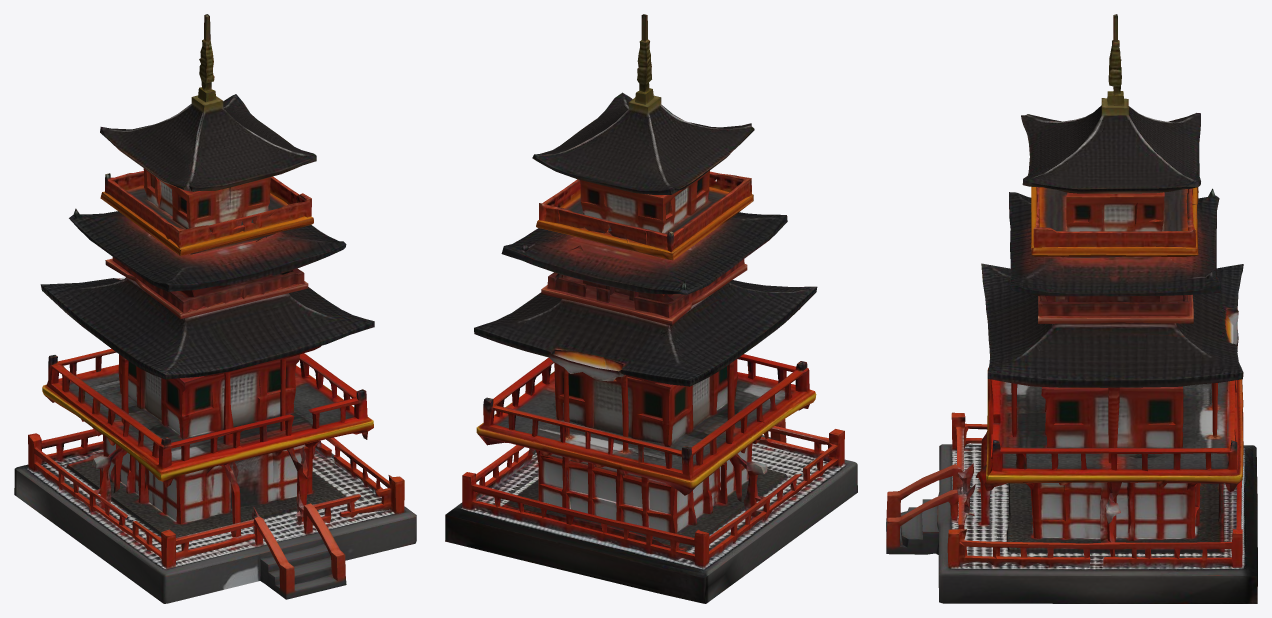
Rendered from pagoda.glb.
3 views of the same model, side by side, from view 1: azimuth 30°, elevation 25°; view 2: azimuth 150°, elevation 25°; view 3: azimuth 270°, elevation 25° (orthographic). The views are drawn at different scales.
Parts seen in each view (by area): view 1: world_0; view 2: world_0; view 3: world_0.
Part boxes in pixels (x1,y1,x2,y2): world_0: (14, 14, 416, 603); world_0: (445, 14, 857, 603); world_0: (886, 14, 1257, 603).
Size of the model in its own units: 0.5349 by 1 by 0.6441.
Materials: 1 (1 with a texture image).
